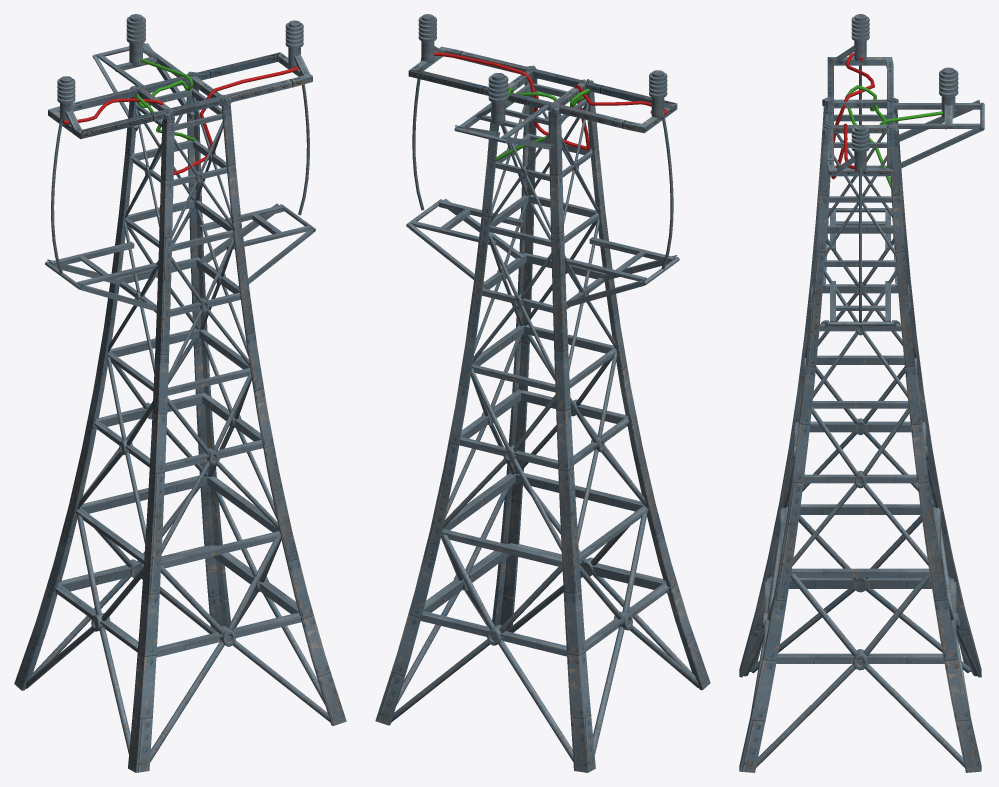
File: static.fbx
3 views of the same model, side by side, from view 1: azimuth 30°, elevation 25°; view 2: azimuth 150°, elevation 25°; view 3: azimuth 270°, elevation 25° (orthographic).
Visible parts, largest first — view 1: Cube_12, Cube_11, Cube_13, Cube_14, Sweep_1_4, Cube_10, Cube_1_2, Cylinder_11, Cube_1_9, Cylinder_19, Cylinder_1_6, Sweep_4 (+26 smaller); view 2: Cube_13, Cube_14, Cube_12, Cube_11, Sweep_1_4, Cube_10, Cube_1_2, Cylinder_27, Cube_1_25, Cylinder_19, Sweep_4, Cylinder_1_14 (+25 smaller); view 3: Cube_14, Cube_11, Cube_12, Cube_13, Sweep_1_4, Cylinder_35, Cube_1_33, Cube_1_34, Cylinder_1_18, Cube_1_17, Cylinder_19, Cube_1_18 (+28 smaller).
Part boxes in pixels (x1,y1,x2,y2): Cube_12: (128, 116, 174, 772); Cube_11: (221, 104, 346, 725); Cube_13: (14, 97, 136, 690); Cube_14: (186, 83, 230, 631); Sweep_1_4: (48, 52, 312, 139); Cube_10: (49, 205, 311, 285); Cube_1_2: (47, 203, 313, 311); Cylinder_11: (150, 640, 330, 762); Cube_1_9: (156, 612, 301, 657); Cylinder_19: (25, 626, 130, 753); Cylinder_1_6: (160, 536, 280, 634); Sweep_4: (136, 75, 224, 116); Cube_13: (548, 111, 595, 772); Cube_14: (375, 112, 498, 725); Cube_12: (587, 91, 710, 690); Cube_11: (492, 77, 537, 630); Sweep_1_4: (408, 46, 677, 133); Cube_10: (411, 200, 674, 281); Cube_1_2: (409, 198, 677, 307); Cylinder_27: (391, 639, 573, 761); Cube_1_25: (420, 611, 566, 656); Cylinder_19: (593, 625, 698, 754); Sweep_4: (507, 69, 585, 110); Cylinder_1_14: (441, 534, 562, 632); Cube_14: (890, 134, 981, 772); Cube_11: (739, 134, 830, 772); Cube_12: (739, 106, 827, 677); Cube_13: (893, 109, 981, 677); Sweep_1_4: (827, 57, 893, 176); Cylinder_35: (756, 663, 964, 767); Cube_1_33: (776, 653, 944, 663); Cube_1_34: (791, 568, 929, 577); Cylinder_1_18: (790, 573, 930, 656); Cube_1_17: (770, 577, 951, 588); Cylinder_19: (750, 589, 970, 673); Cube_1_18: (787, 504, 933, 514).
Bounding box in the file's own units: 487 × 1178 × 402.
Materials: 4 (4 with a texture image).
